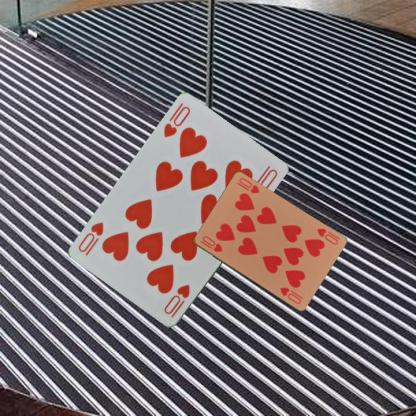10h: (160, 103, 192, 140), (161, 282, 191, 319), (197, 233, 224, 254), (314, 225, 339, 246)
